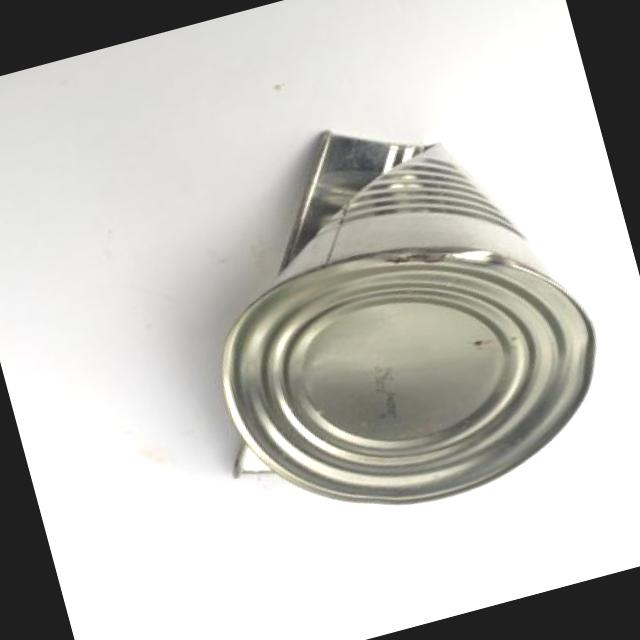metal: (223, 134, 592, 503)
